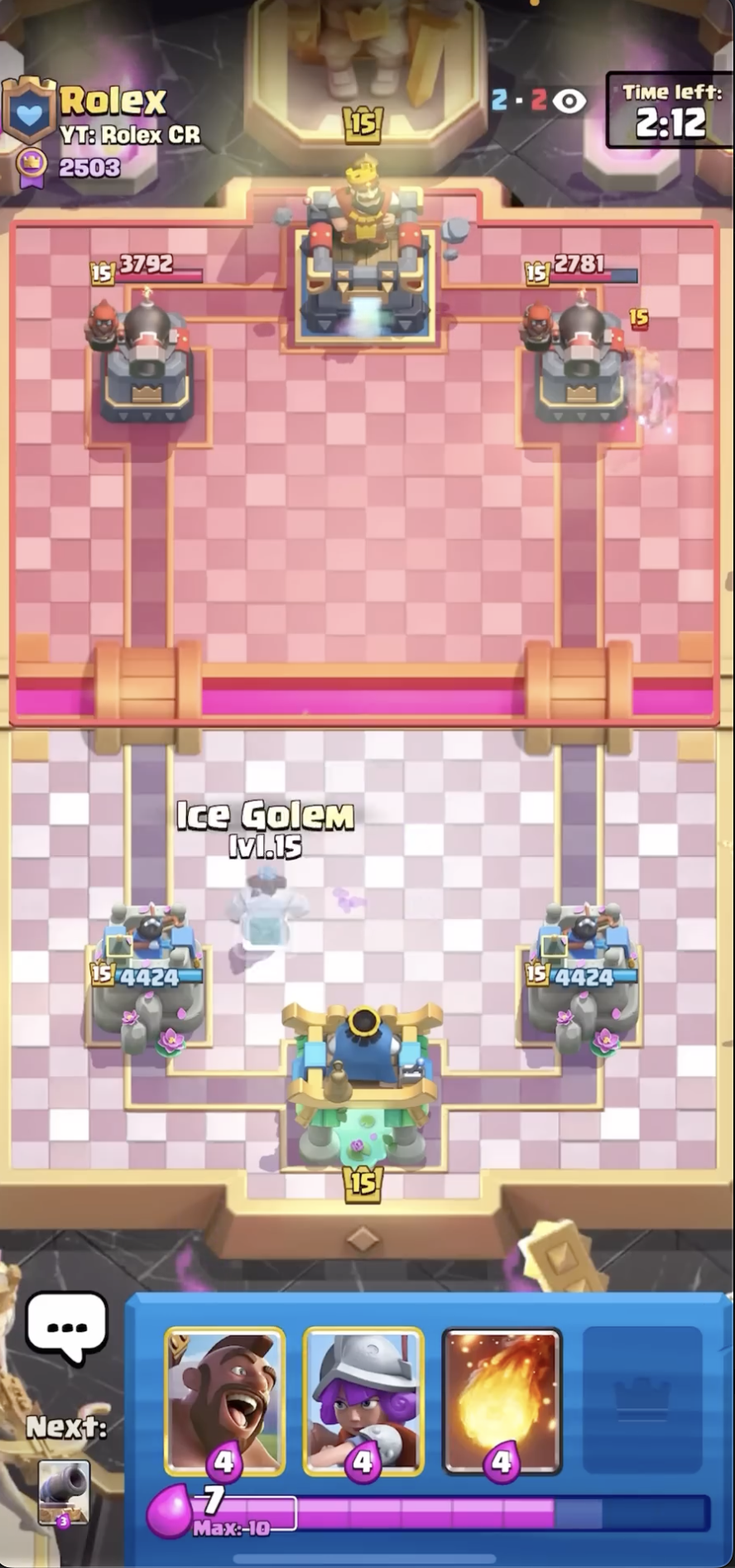ice_golem: (225, 859, 319, 961)
